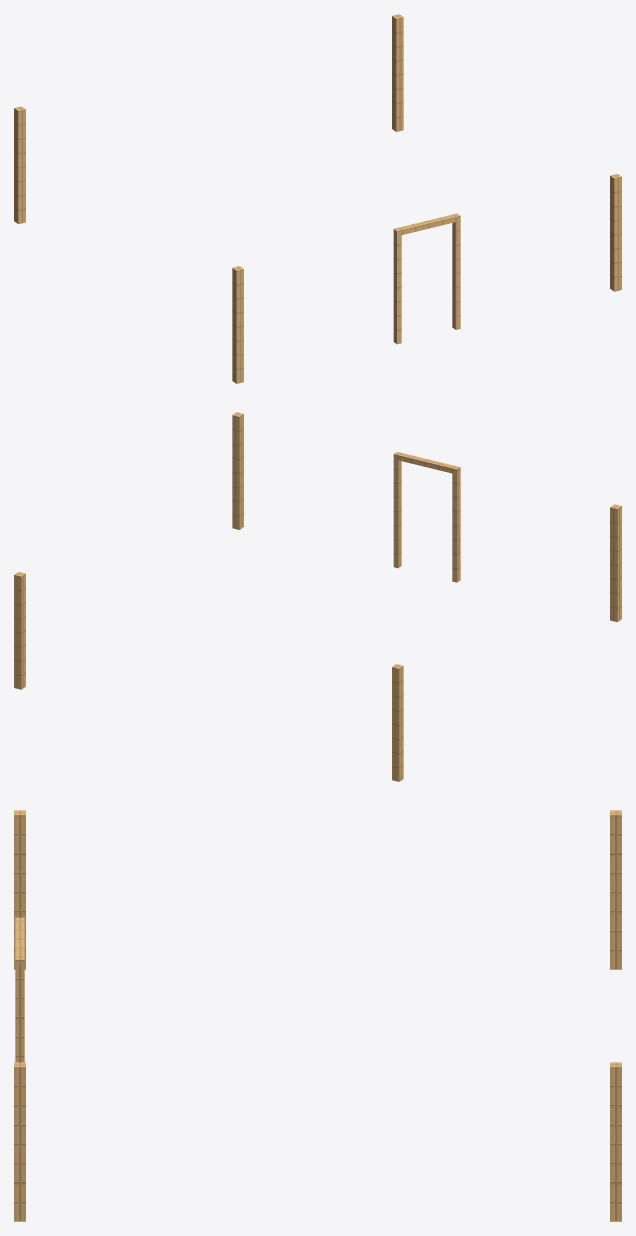
The model's file is accent-4.glb.
3 views of the same model, one above another, from view 1: azimuth 30°, elevation 25°; view 2: azimuth 150°, elevation 25°; view 3: azimuth 270°, elevation 25° (orthographic). The views are drawn at different scales.
Parts seen in each view (by area): view 1: accent-4; view 2: accent-4; view 3: accent-4.
Part boxes in pixels (x1,y1,x2,y2): accent-4: [14, 14, 621, 383]; accent-4: [14, 412, 621, 781]; accent-4: [14, 810, 621, 1221].
Size of the model in its own units: 14.28 by 4 by 14.28.
1 material, 1 textured.
